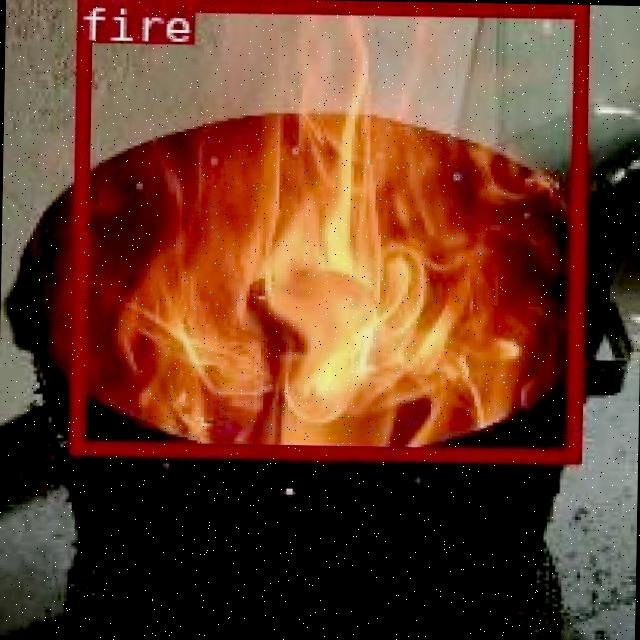fire: (65, 0, 583, 458)
